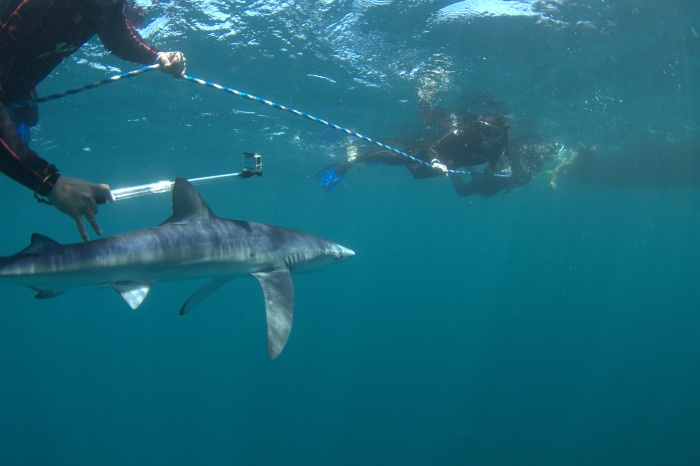Azul: (1, 171, 369, 377)
